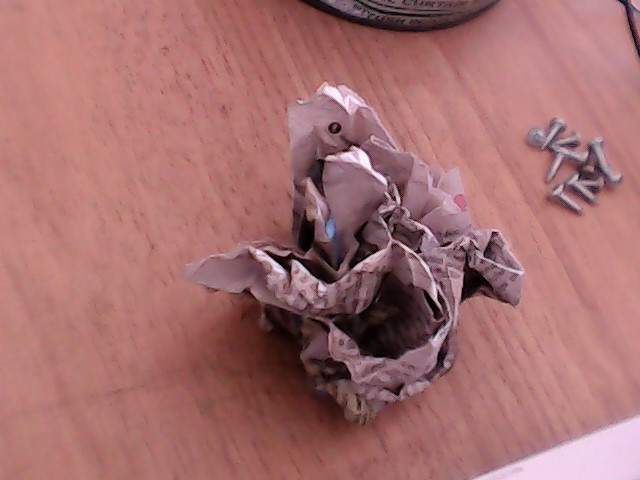Metal: (526, 110, 628, 227)
paper: (237, 86, 515, 427)
